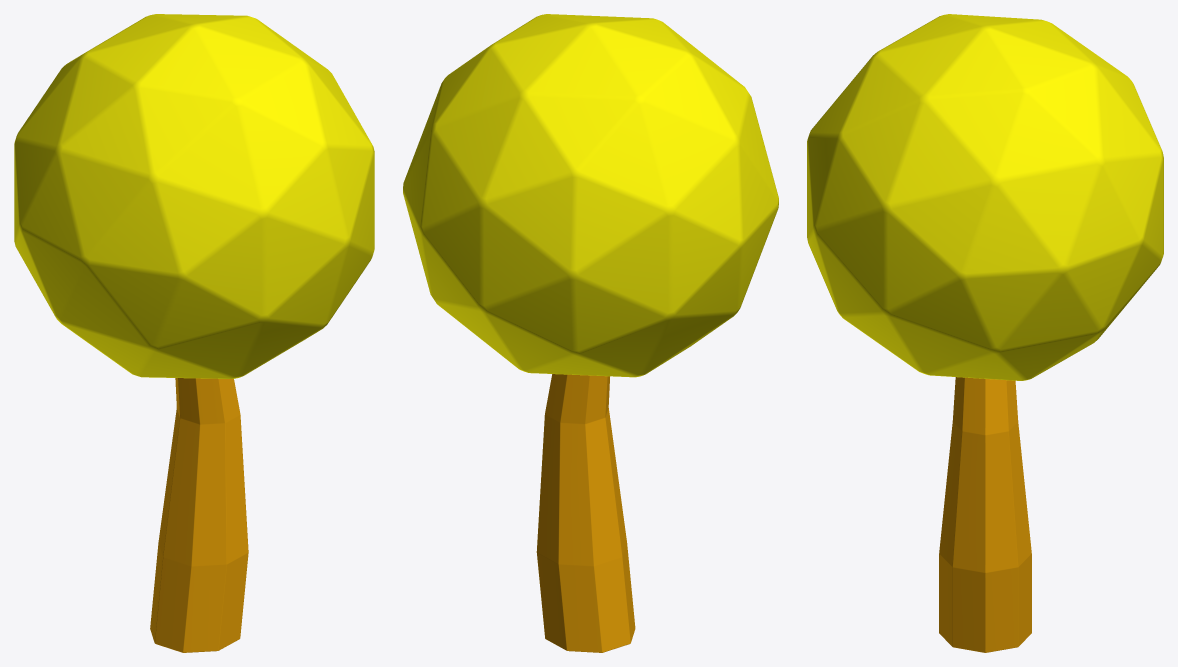
File: Yellow Tree.fbx
The picture shows the model from 3 angles, left to right: view 1: azimuth 30°, elevation 25°; view 2: azimuth 150°, elevation 25°; view 3: azimuth 270°, elevation 25°; orthographic projection.
Visible parts, largest first — view 1: pPlatonic1, pCylinder1; view 2: pPlatonic1, pCylinder1; view 3: pPlatonic1, pCylinder1.
Boxes of the visible parts, x1,y1,x2,y2 form: pPlatonic1: (14, 14, 374, 378); pCylinder1: (150, 378, 248, 652); pPlatonic1: (403, 14, 778, 377); pCylinder1: (536, 374, 635, 652); pPlatonic1: (807, 14, 1163, 380); pCylinder1: (939, 377, 1031, 652).
Bounding box in the file's own units: 2.08 × 3.72 × 1.99.
